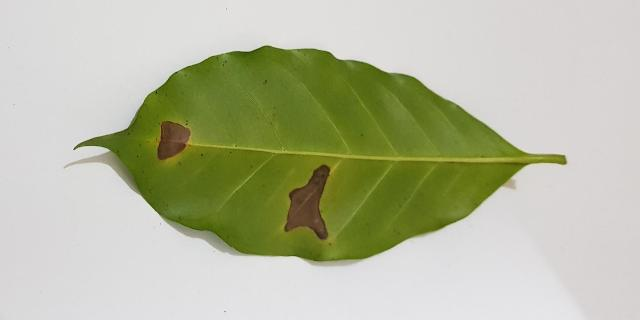cercospora: (284, 165, 330, 240), (158, 122, 191, 161)
